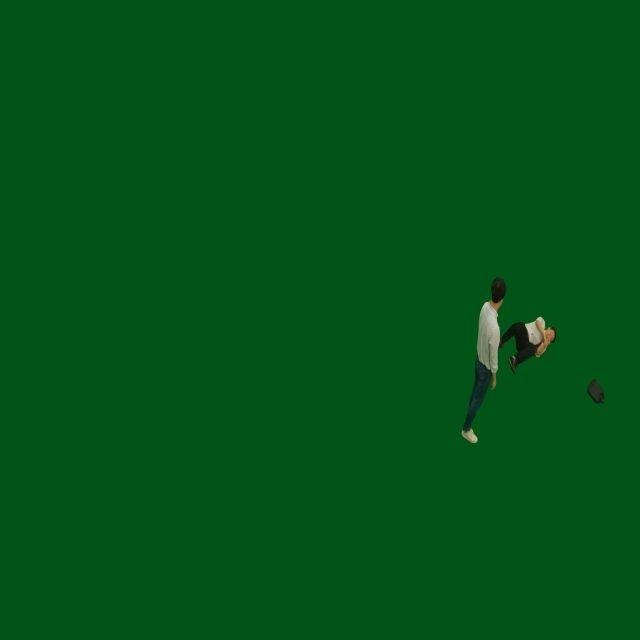fight: (460, 273, 556, 448)
